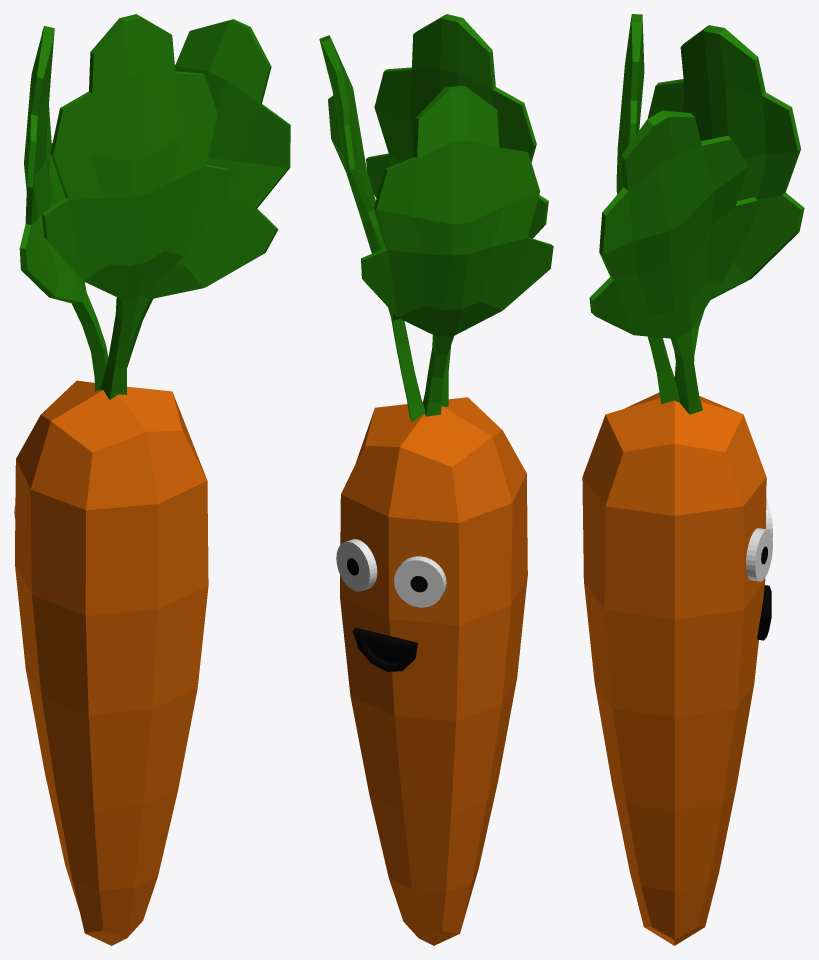
File: CarrotNPC.fbx
3 views of the same model, side by side, from view 1: azimuth 30°, elevation 25°; view 2: azimuth 150°, elevation 25°; view 3: azimuth 270°, elevation 25° (orthographic). The views are drawn at different scales.
Parts seen in each view (by area): view 1: carrot; view 2: carrot, Circle, toonyMouths; view 3: carrot, Circle, toonyMouths.
Boxes of the visible parts, x1,y1,x2,y2 form: carrot: (15, 14, 290, 945); carrot: (319, 14, 553, 945); Circle: (336, 539, 446, 607); toonyMouths: (352, 627, 417, 671); carrot: (582, 14, 804, 945); Circle: (746, 498, 772, 581); toonyMouths: (757, 585, 771, 640).
Size of the model in its own units: 175 by 625 by 136.
